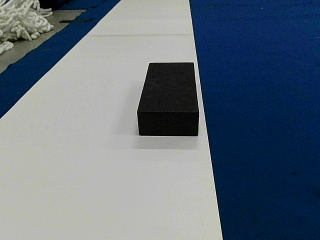block: (137, 61, 199, 135)
